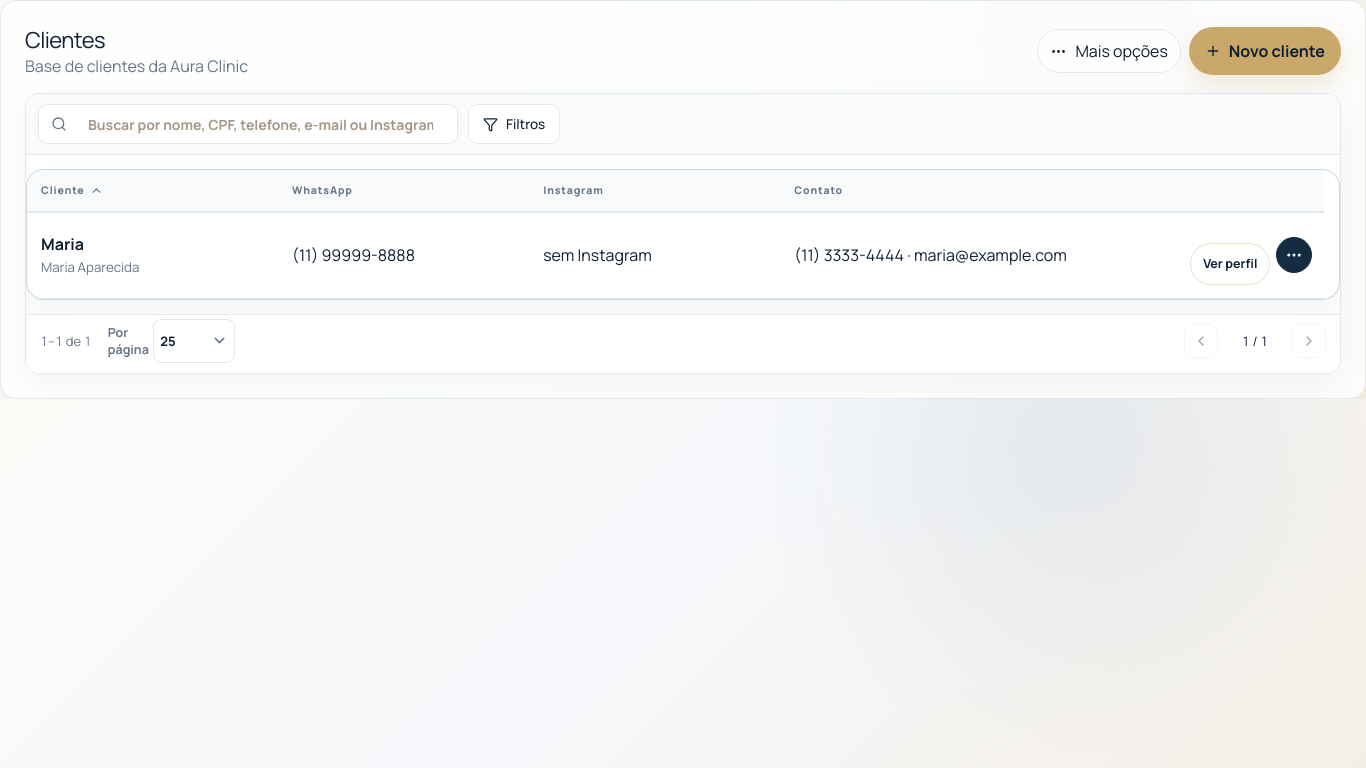
clientes e perfil 360 › mostra no histórico os indicadores químicos dos procedimentos para quem vê arquivos clínicos
Click the button "Ver perfil". click: x=1230, y=264
box: top-left (1190, 243), bottom-right (1270, 285)
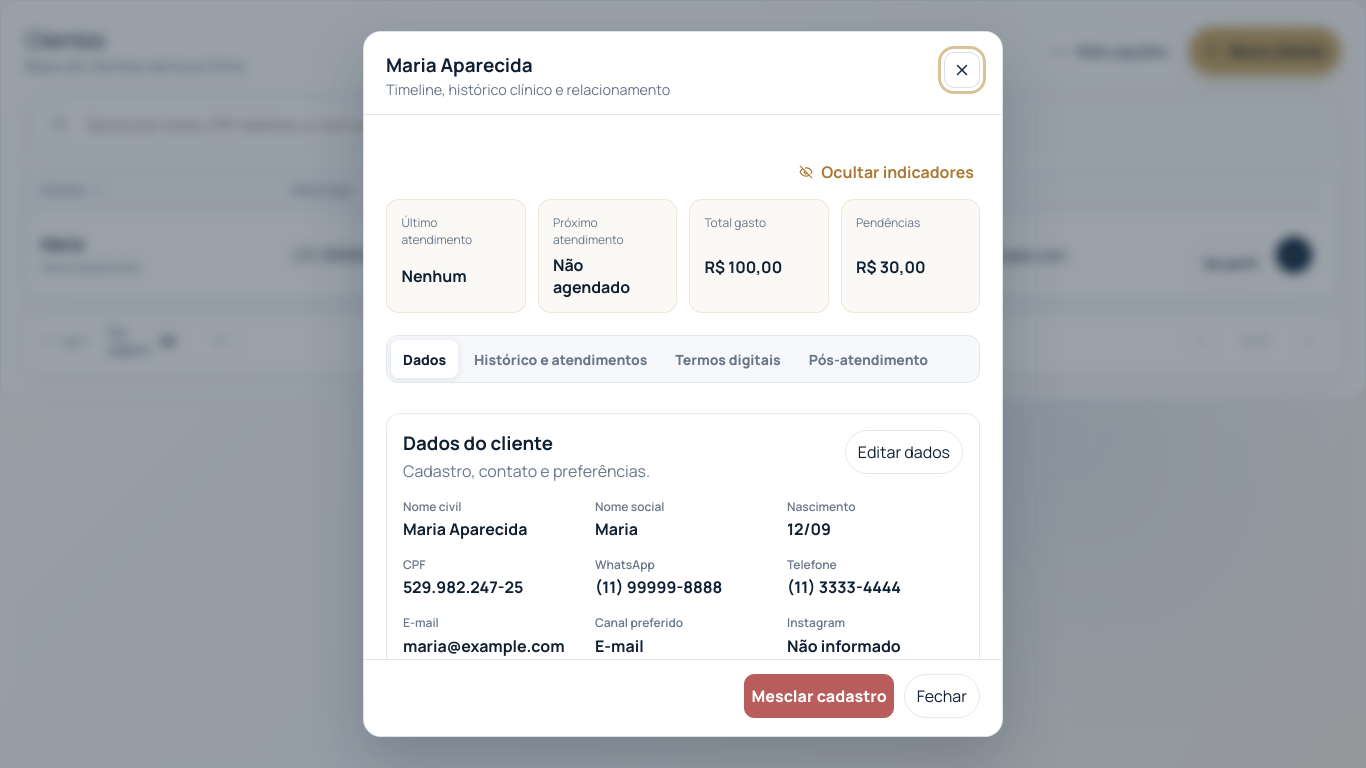
Click the tab "Histórico e atendimentos". click: x=561, y=359
box: top-left (462, 340), bottom-right (659, 378)
(page scrolled)
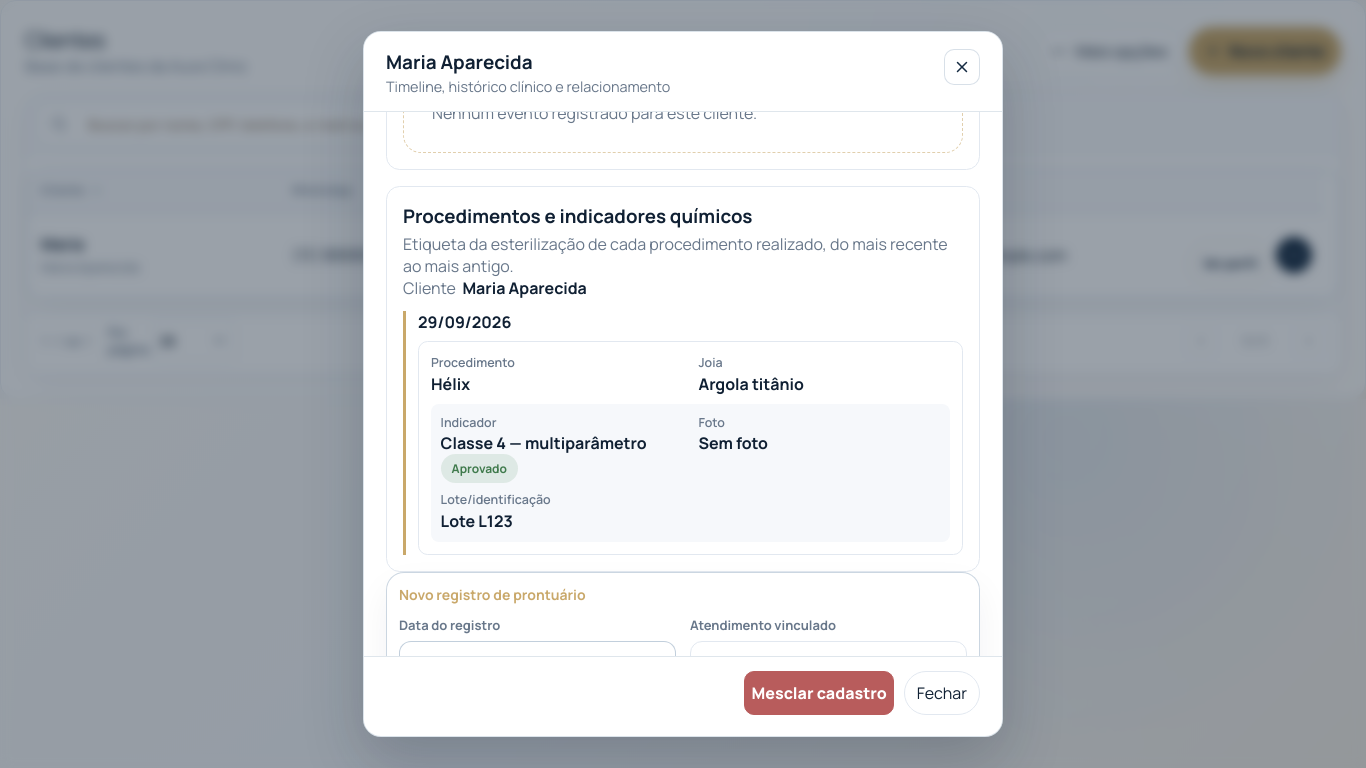
Now the text "Lote L123" is shown, box top-left (441, 510), bottom-right (513, 532)
Now the text "Argola titânio" is shown, box top-left (698, 373), bottom-right (804, 395)
